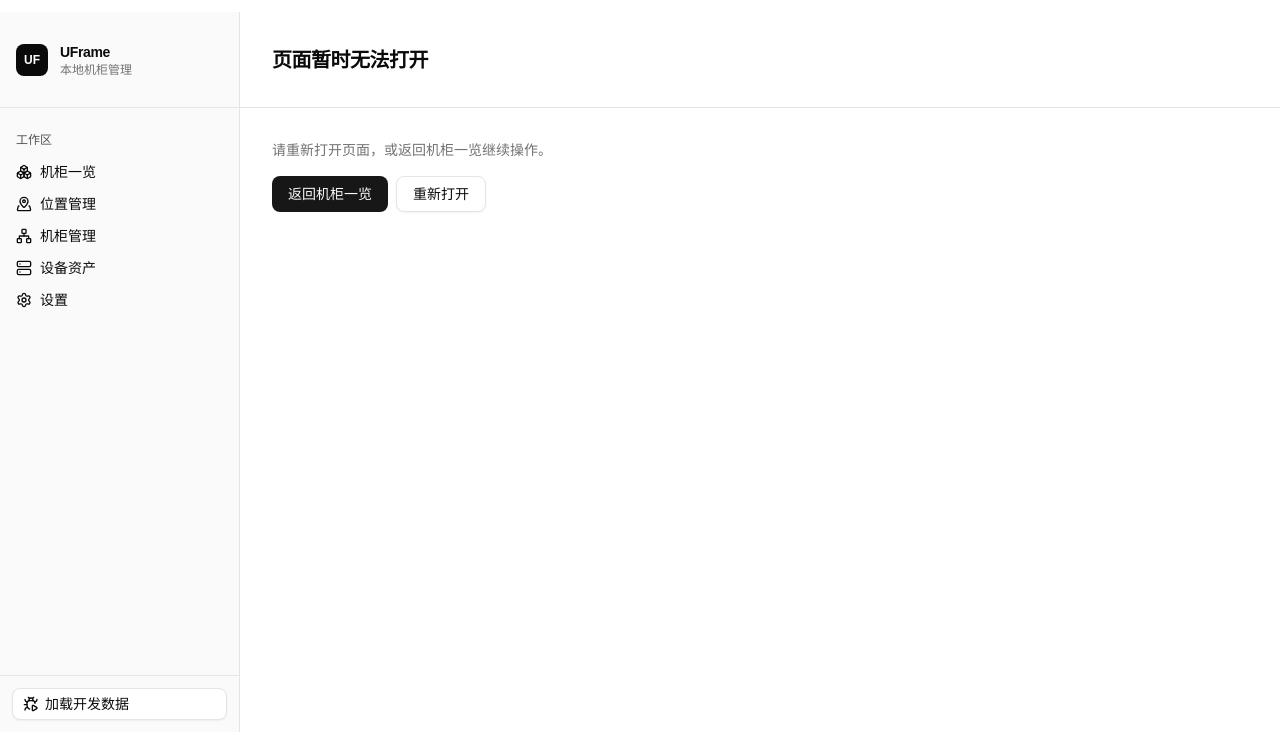
Test: keeps the sidebar usable after a page render fails without showing internals
The image size is (1280, 732).
Expected: the heading "页面暂时无法打开" is shown, x1=272 y1=46 x2=428 y2=74
Click the link "机柜一览" at (56, 172), box x1=16 y1=164 x2=96 y2=180
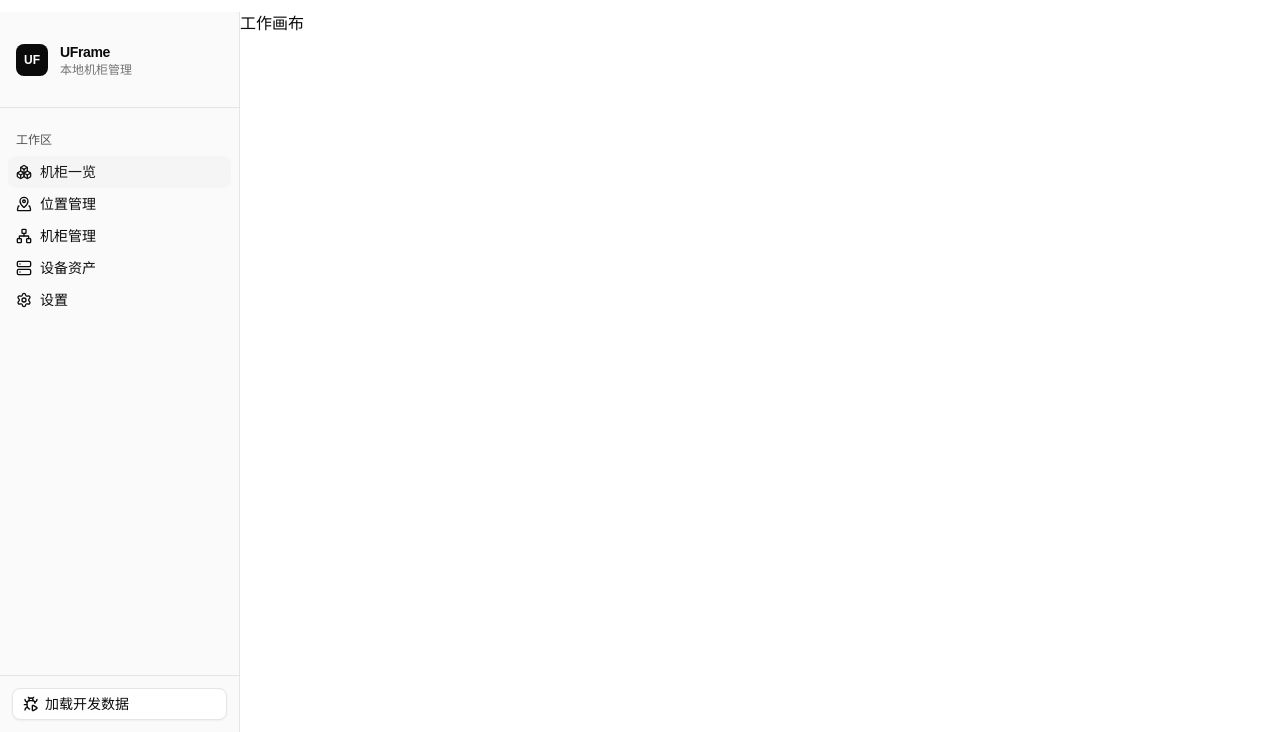
Expected: the heading "工作画布" is shown, x1=240 y1=15 x2=304 y2=32
